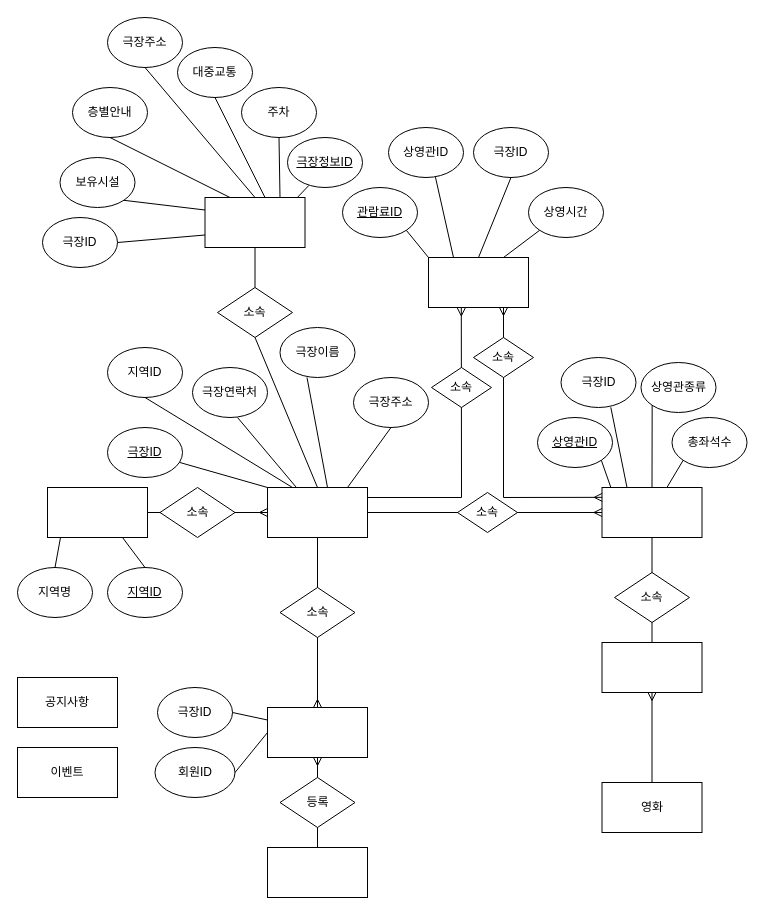
Some shapes in this 765 by 915 pixel diagram are drawn without their labels. The centre of each missing label's shape, as x and y in pixels:
관람료: (478,282)
극장: (317,512)
극장정보: (254,222)
상영관: (651,512)
상영시간표(스케줄): (651,667)
선호극장: (317,732)
지역: (97,512)
회원: (317,872)
